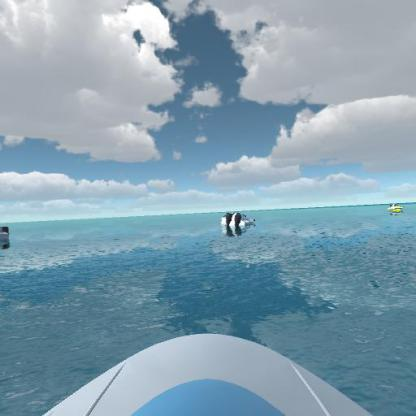usv1: (217, 206, 265, 237)
usv2: (384, 197, 410, 215)
